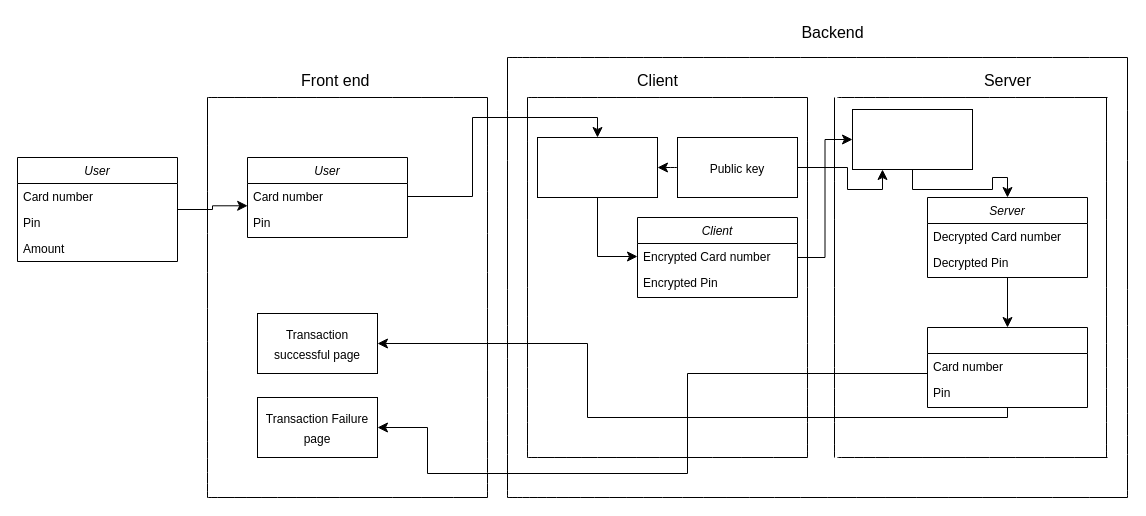
The diagram is 1146 pixels wide and 516 high, and some of its shapes have lost their labels. Each missing label, with the box of its shape:
Database: (926, 326, 1088, 408)
RSA decryption: (852, 108, 972, 170)
RSA encryption: (536, 136, 658, 198)
